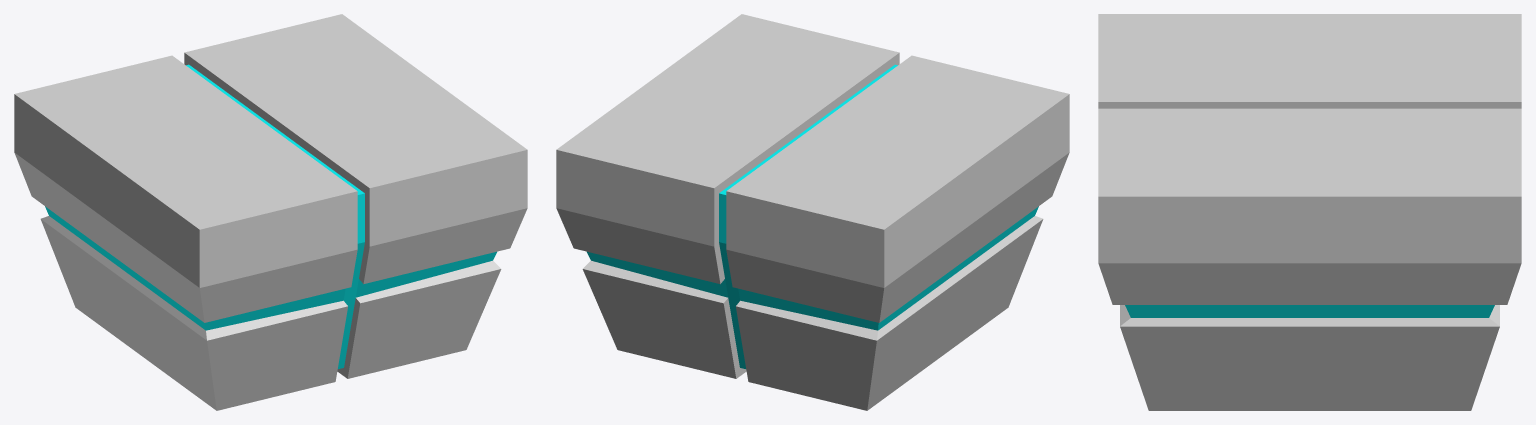
Rendered from Platform_v2_small.fbx.
3 views of the same model, side by side, from view 1: azimuth 30°, elevation 25°; view 2: azimuth 150°, elevation 25°; view 3: azimuth 270°, elevation 25° (orthographic). The views are drawn at different scales.
Parts seen in each view (by area): view 1: Platform_v2_small; view 2: Platform_v2_small; view 3: Platform_v2_small.
Boxes of the visible parts, box(x1,y1,x2,y2) form: Platform_v2_small: box(14, 14, 527, 410); Platform_v2_small: box(556, 14, 1069, 410); Platform_v2_small: box(1098, 14, 1521, 410).
Bounding box in the file's own units: 2.55 × 1.54 × 2.5.
